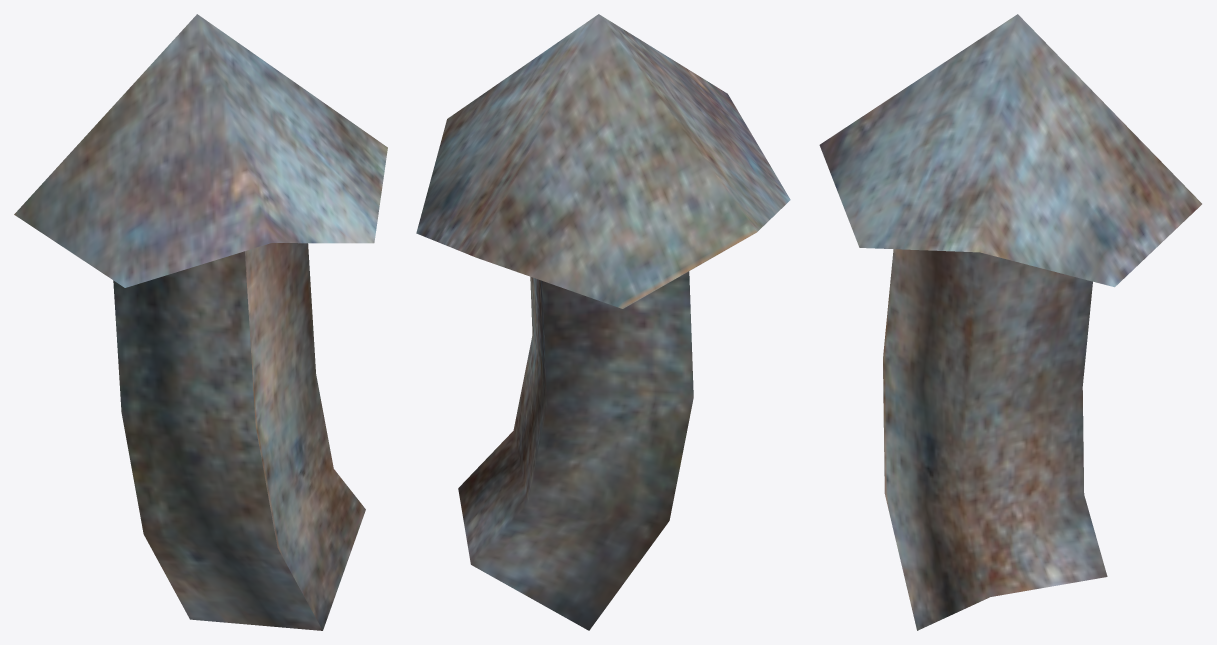
File: pipe_LOD170.glb
The picture shows the model from 3 angles, left to right: view 1: azimuth 30°, elevation 25°; view 2: azimuth 150°, elevation 25°; view 3: azimuth 270°, elevation 25°; orthographic projection. The views are drawn at different scales.
Visible parts, largest first — view 1: oldmetal.jpg__; view 2: oldmetal.jpg__; view 3: oldmetal.jpg__.
Part boxes in pixels (x1=…): oldmetal.jpg__: x1=14, y1=14, x2=387, y2=630; oldmetal.jpg__: x1=416, y1=14, x2=790, y2=630; oldmetal.jpg__: x1=819, y1=14, x2=1201, y2=630.
Bounding box in the file's own units: 2.27 × 3.88 × 2.26.
1 material, 1 textured.
